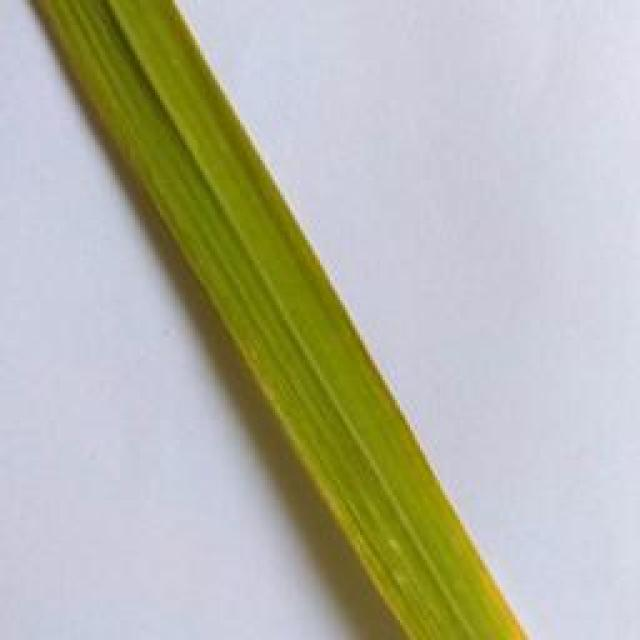Bacterial_Blight: (31, 0, 538, 640)
